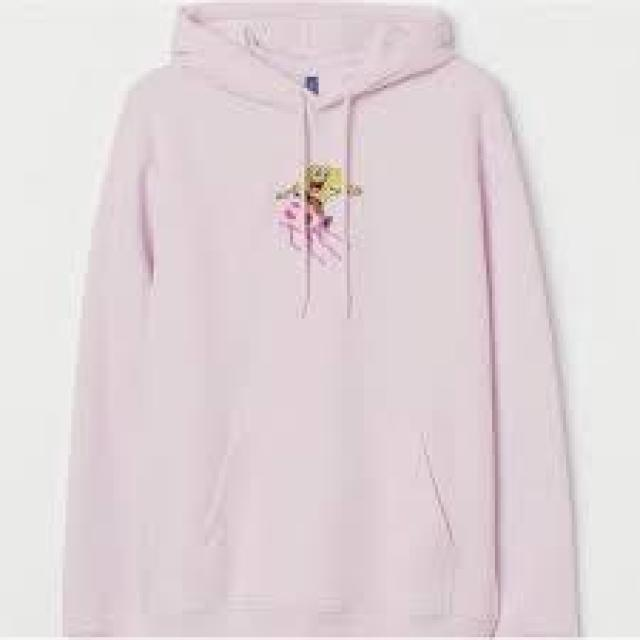sweater: (54, 3, 592, 640)
